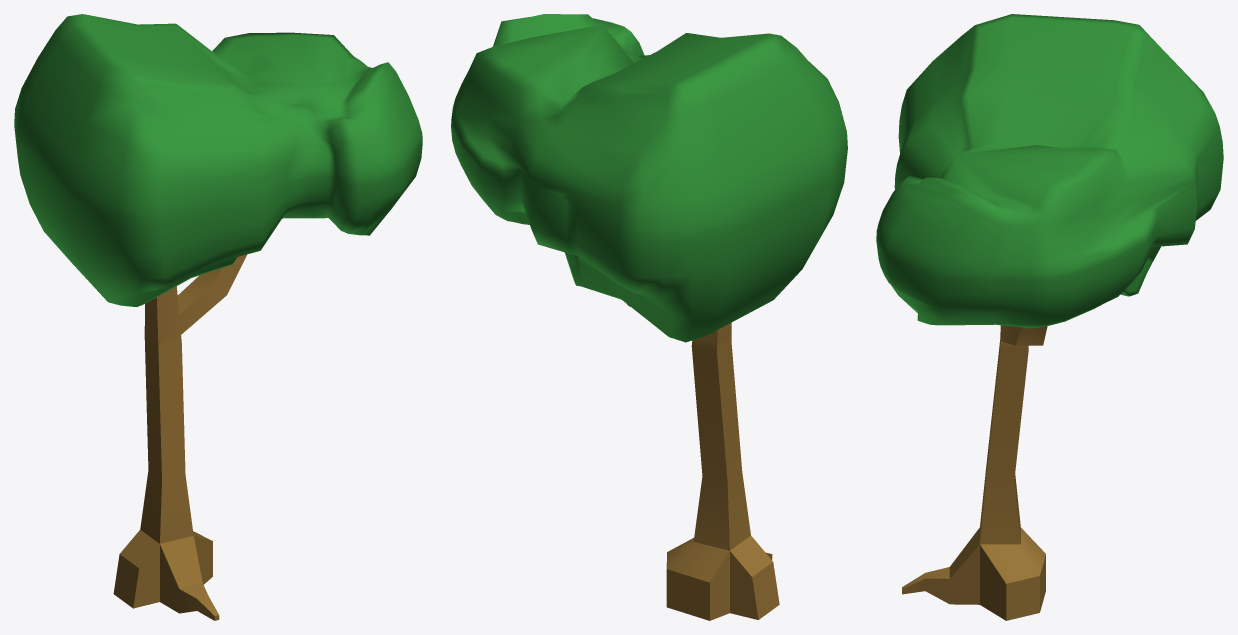
The model's file is Tree1.fbx.
3 renders of one model, left to right at view 1: azimuth 30°, elevation 25°; view 2: azimuth 150°, elevation 25°; view 3: azimuth 270°, elevation 25°, orthographic. The views are drawn at different scales.
Visible parts, largest first — view 1: pSphere2; view 2: pSphere2; view 3: pSphere2.
Part boxes in pixels (x1,y1,x2,y2): pSphere2: (14,14,422,620); pSphere2: (451,14,847,620); pSphere2: (876,14,1223,620).
Bounding box in the file's own units: 9.6 × 15.11 × 8.49.
